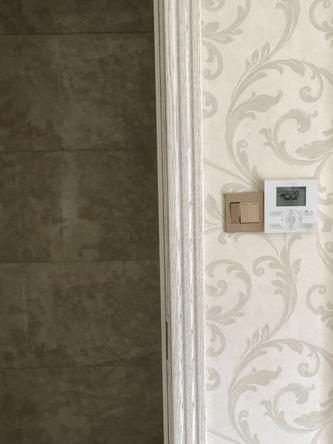switch: (228, 201, 241, 224), (249, 200, 260, 224), (241, 201, 249, 222)
